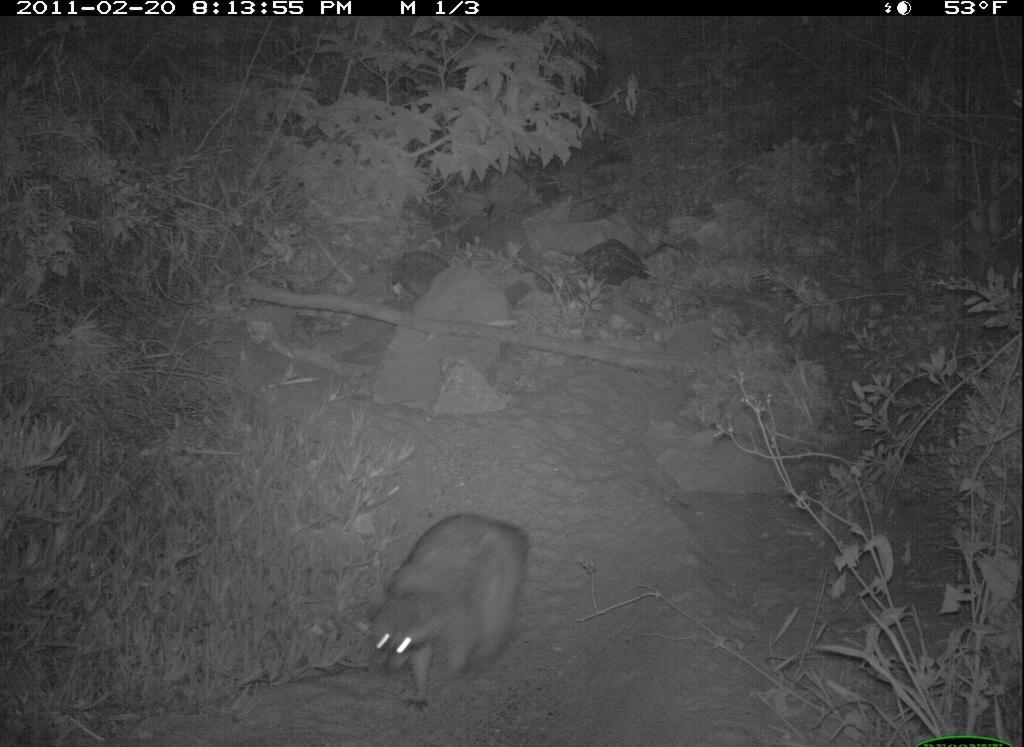raccoon: (351, 511, 534, 717)
